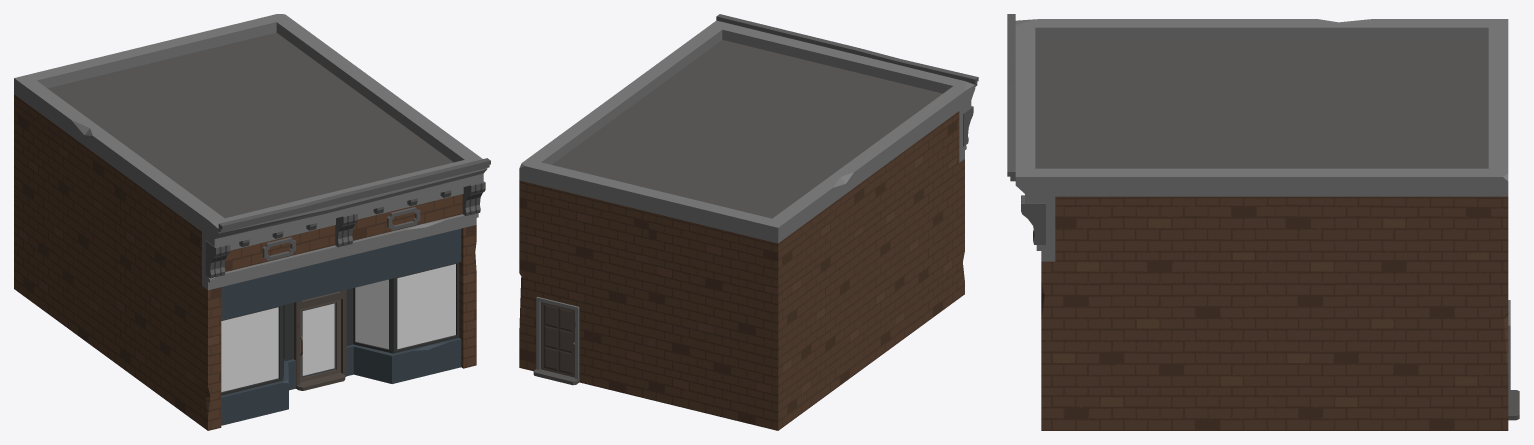
The model's file is SM_Bldg_City_Shop_04.fbx.
The picture shows the model from 3 angles, left to right: view 1: azimuth 30°, elevation 25°; view 2: azimuth 150°, elevation 25°; view 3: azimuth 270°, elevation 25°; orthographic projection. The views are drawn at different scales.
Visible parts, largest first — view 1: SM_Bldg_City_Shop_04, SM_Bldg_City_Shop_04_Glass; view 2: SM_Bldg_City_Shop_04; view 3: SM_Bldg_City_Shop_04.
Part boxes in pixels (bbox=[...]): SM_Bldg_City_Shop_04: bbox=[14, 14, 490, 430]; SM_Bldg_City_Shop_04_Glass: bbox=[221, 264, 455, 391]; SM_Bldg_City_Shop_04: bbox=[519, 14, 978, 430]; SM_Bldg_City_Shop_04: bbox=[1007, 14, 1519, 430].
Bounding box in the file's own units: 803 × 612 × 1097.
